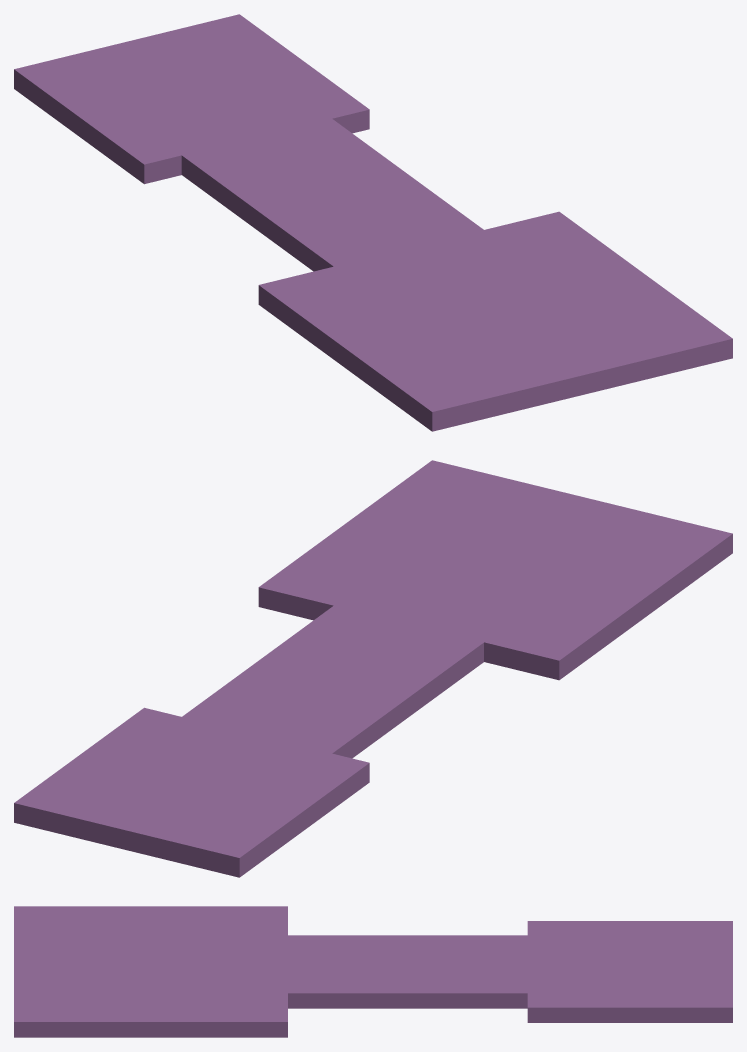
The model's file is PlaneFloor.glb.
3 views of the same model, one above another, from view 1: azimuth 30°, elevation 25°; view 2: azimuth 150°, elevation 25°; view 3: azimuth 270°, elevation 25° (orthographic). The views are drawn at different scales.
Parts seen in each view (by area): view 1: PlaneFloor; view 2: PlaneFloor; view 3: PlaneFloor.
Part boxes in pixels (x1=…): PlaneFloor: x1=14, y1=14, x2=732, y2=431; PlaneFloor: x1=14, y1=460, x2=732, y2=877; PlaneFloor: x1=14, y1=906, x2=732, y2=1037.
Size of the model in its own units: 8 by 0.5 by 21.
